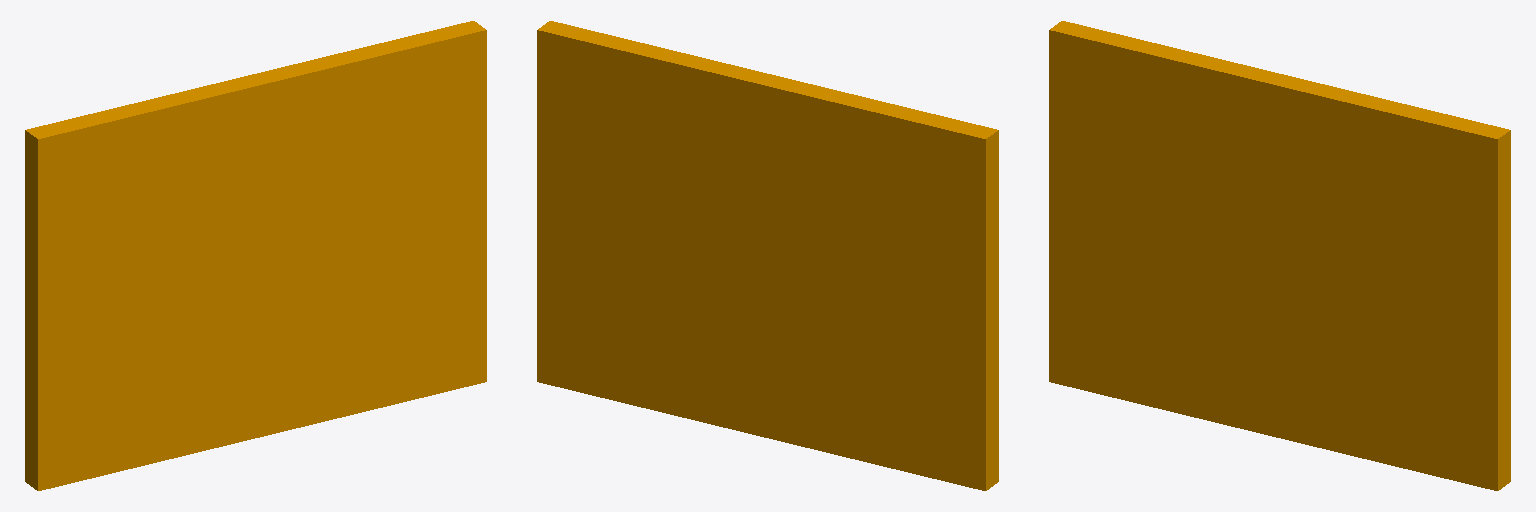
robot.urdf — cutting_board:
<?xml version="1.0" ?>
<robot name="cutting_board"> 
  <link name="cutting_board">
    <visual>
      <origin xyz="0 0 0"/>
      <geometry>
        <box size="0.4 0.02 0.3"/>
      </geometry>
    </visual>
    <collision>
      <origin xyz="0 0 0"/>
      <geometry>
        <box size="0.4 0.02 0.3"/>
      </geometry>
    </collision>
  </link>
</robot>
        

--- What the picture shows (computed from the rendered views, not written in the file) ---
Views: 3 orthographic renders of the robot side by side, from view 1: azimuth 30°, elevation 25°; view 2: azimuth 150°, elevation 25°; view 3: azimuth 330°, elevation 25°.
Model cutting_board with 1 links and 0 joints (none), rooted at cutting_board, posed all joints at 0.
Visible links, largest first — view 1: cutting_board; view 2: cutting_board; view 3: cutting_board.
Boxes of the visible links, bbox=[...] form: cutting_board: bbox=[25, 21, 486, 490]; cutting_board: bbox=[537, 21, 998, 490]; cutting_board: bbox=[1049, 21, 1510, 490].
Size in the robot's own frame: 0.4 by 0.02 by 0.3 metres.
Geometry: primitives only (box / cylinder / sphere), no mesh files.